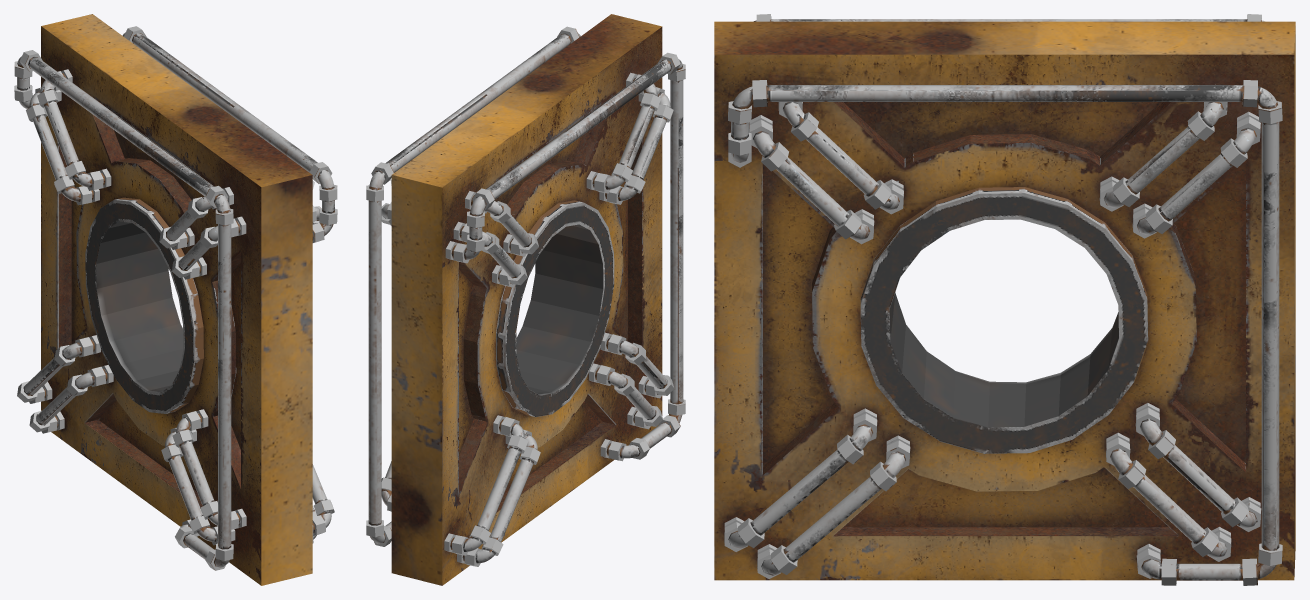
Rendered from big-window.fbx.
The picture shows the model from 3 angles, left to right: view 1: azimuth 30°, elevation 25°; view 2: azimuth 150°, elevation 25°; view 3: azimuth 270°, elevation 25°; orthographic projection. The views are drawn at different scales.
Visible parts, largest first — view 1: Plane.003; view 2: Plane.003; view 3: Plane.003.
Boxes of the visible parts, box(x1,y1,x2,y2) form: Plane.003: box(14, 14, 337, 585); Plane.003: box(366, 14, 685, 585); Plane.003: box(714, 14, 1295, 585).
Bounding box in the file's own units: 63.25 × 200 × 200.
